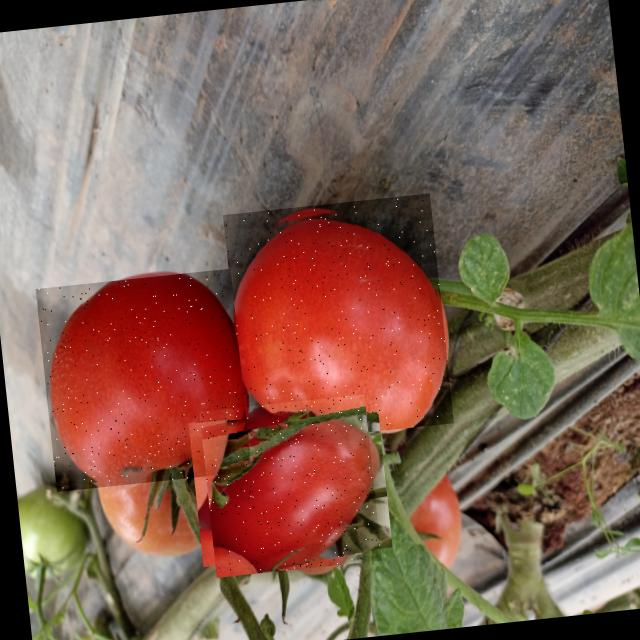Ripe Tomato: (222, 193, 453, 444), (35, 268, 252, 492), (198, 394, 382, 577)
